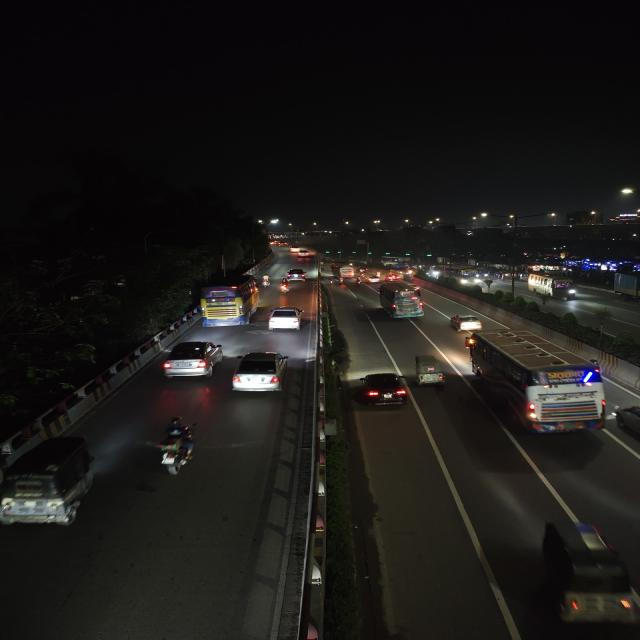bus: (465, 330, 611, 437), (200, 274, 261, 326), (376, 281, 426, 321), (527, 272, 578, 300), (441, 265, 479, 287), (336, 264, 355, 276)
car: (228, 348, 290, 398), (159, 339, 226, 381), (357, 370, 410, 410), (265, 306, 305, 334), (448, 312, 484, 332), (284, 268, 308, 282), (296, 250, 315, 258)
cng: (0, 434, 98, 534), (412, 352, 448, 392)
motorcycle: (149, 417, 202, 477), (279, 280, 291, 294), (261, 275, 273, 286), (329, 277, 335, 287), (356, 276, 361, 288)
